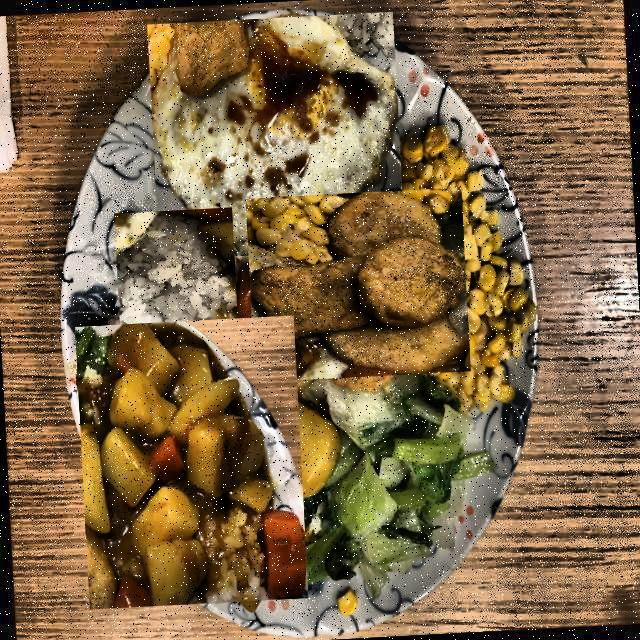Food: (75, 316, 310, 610), (148, 12, 406, 262), (252, 180, 462, 390), (110, 212, 242, 344)
